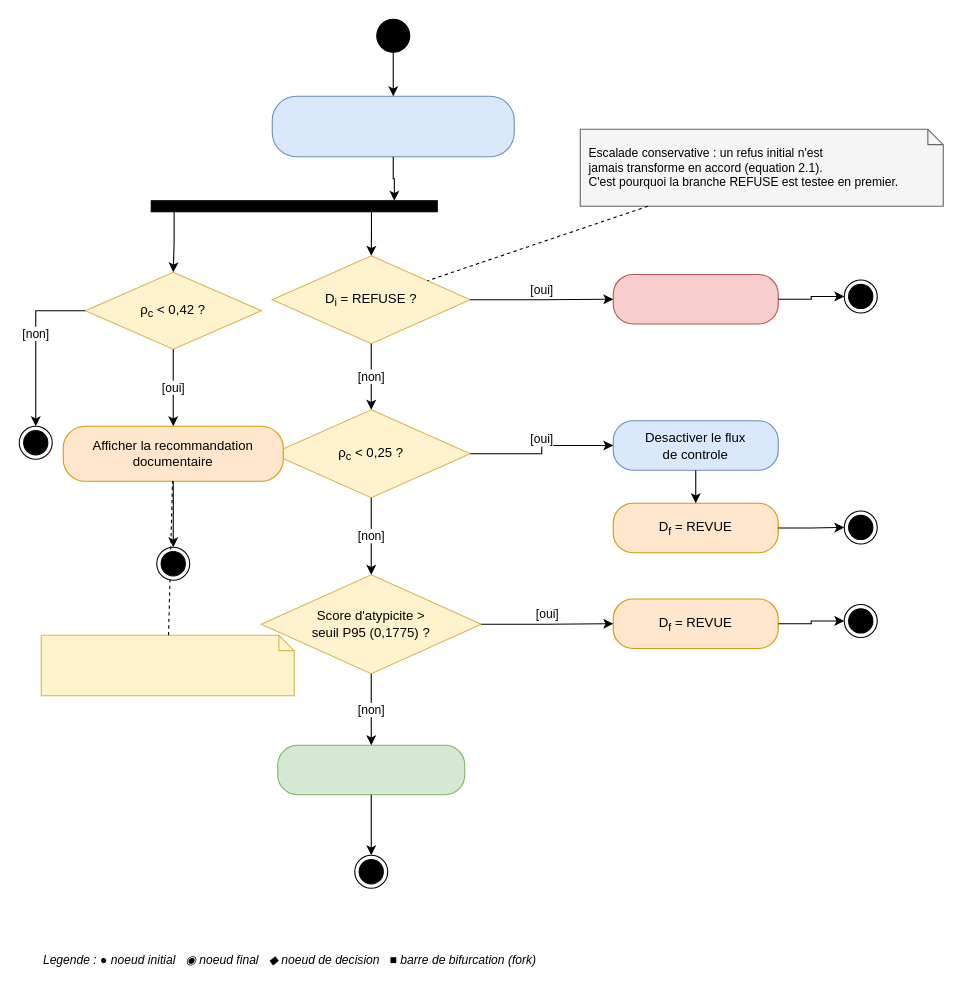
This 963x996 diagram has some shape labels left out. Each missing label, with the centre of its shape:
Branche informative : la recommandation documentaire n'altere jamais D f .: point 167,665
D f = D i (inchangee): point 371,769
D f = REFUSE: point 695,298
Recevoir la decision initiale D i et l'indice de couverture ρ c: point 392,126
